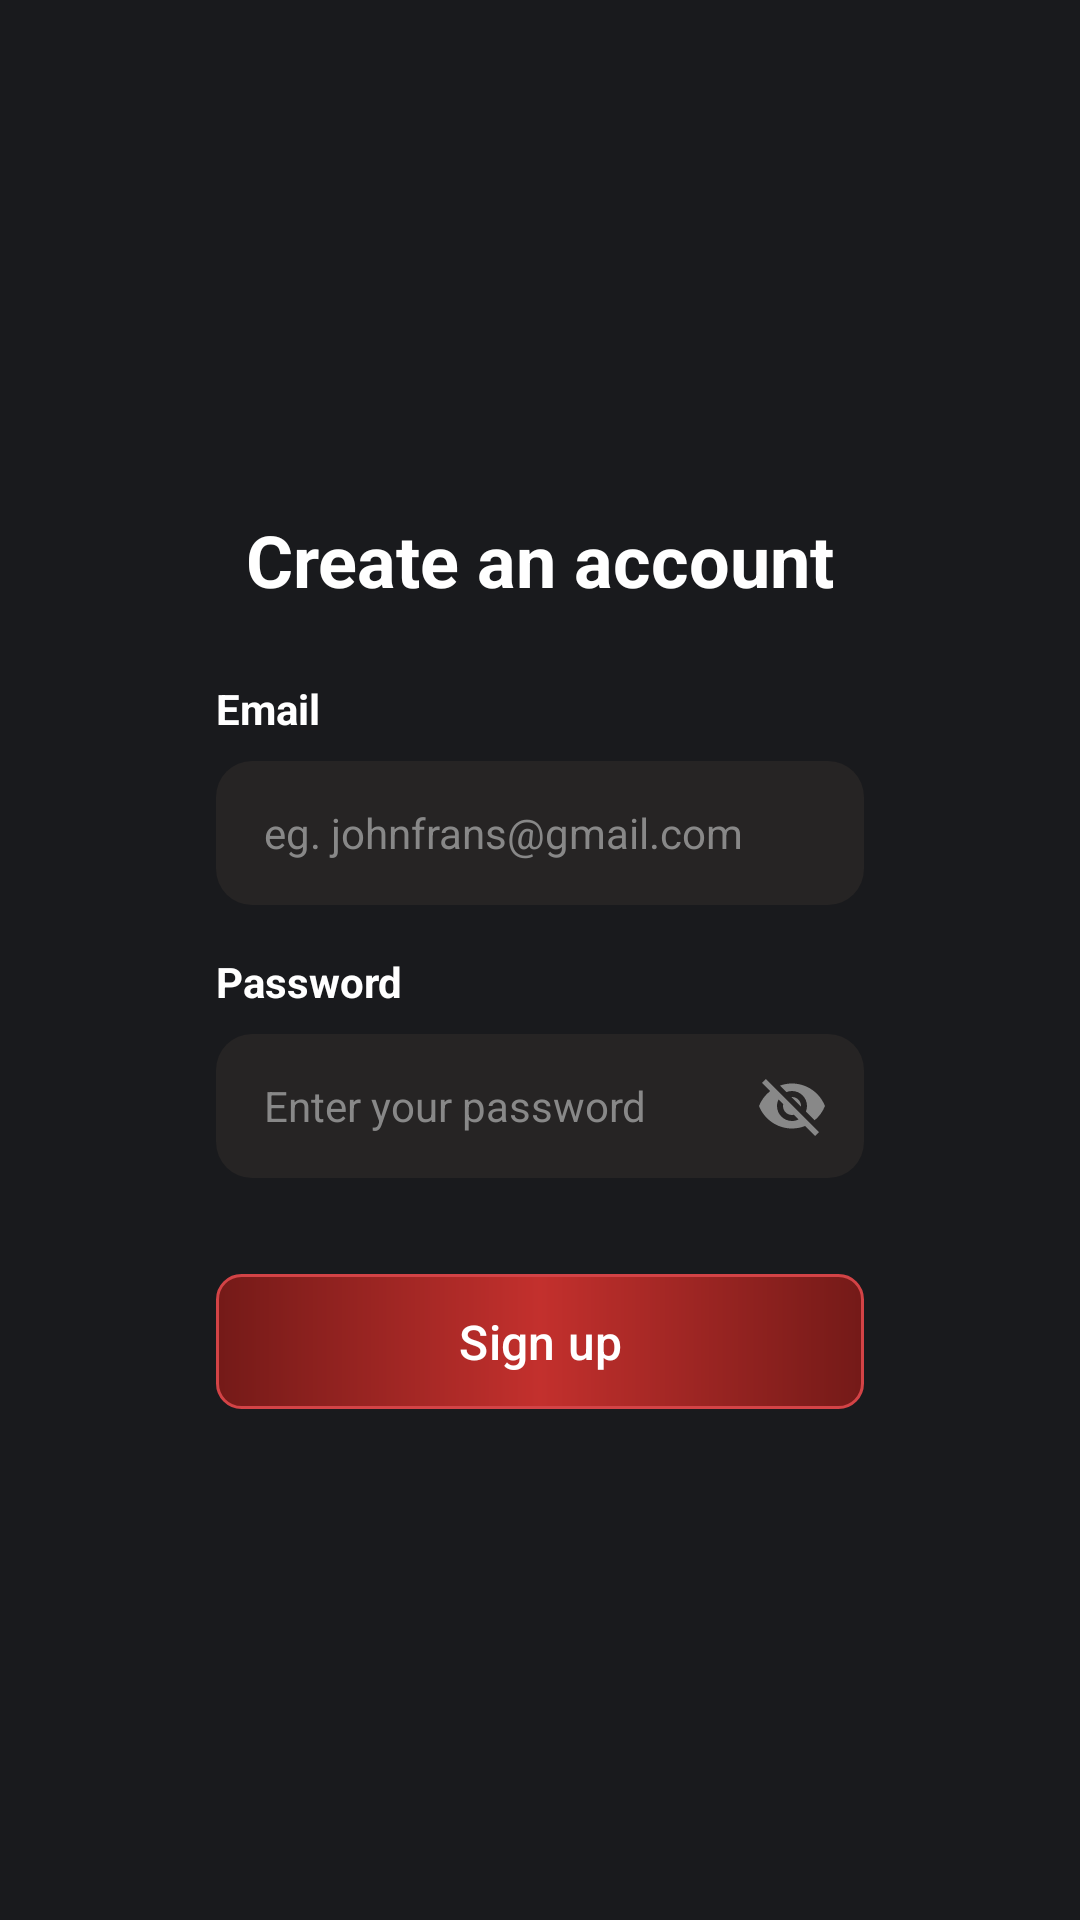

Screen size 1080w x 1920h. Icon name, then its center in pixels as [x,y]:
visibility off: [792,1107]
